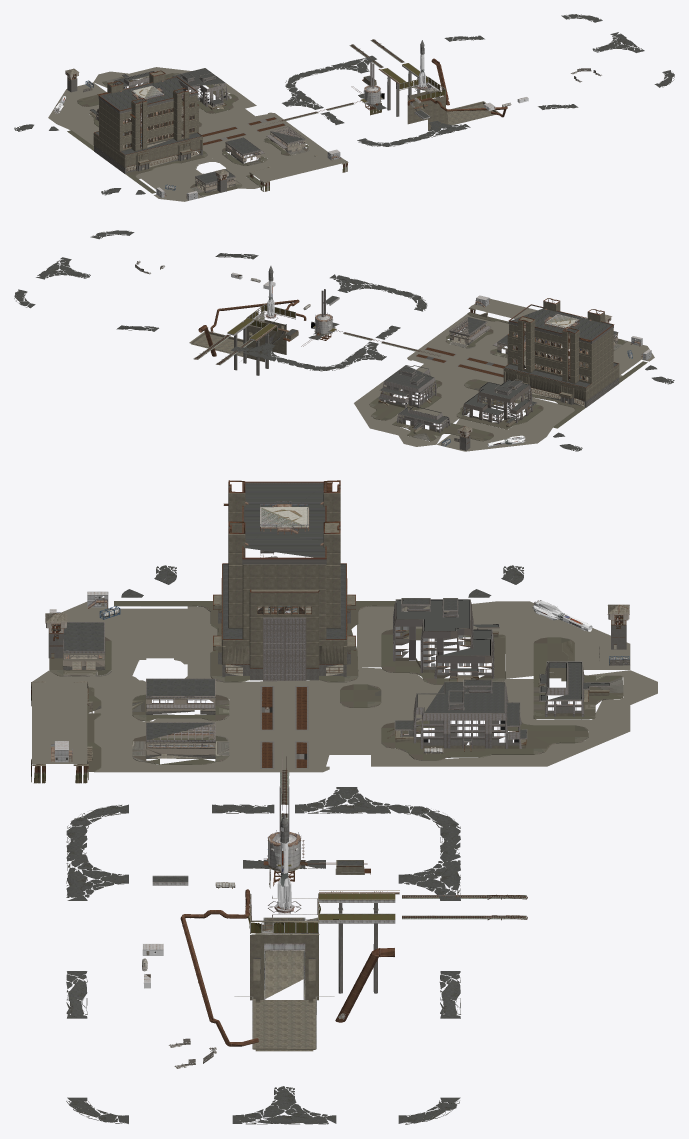
File: launch_site_1-map.glb
3 renders of one model, top to bottom at view 1: azimuth 30°, elevation 25°; view 2: azimuth 150°, elevation 25°; view 3: azimuth 270°, elevation 25°, orthographic. The views are drawn at different scales.
Visible parts, largest first — view 1: launch_site_ground_a_LOD0, range_core_exterior_LOD0, range_bridge_d_LOD0, warehouse_launch_site_a_LOD0, pavement_launchsite_a_LOD0, range_bridge_a_LOD0, pipeline_bespoke_launchsite_a_LOD0, walkway_a_300x900_collapsed_a, train_track_3x9, watch_tower_b_LOD0, portacabin_600_900_a_LOD0, range_outbuilding_a_LOD0 (+1 smaller); view 2: launch_site_ground_a_LOD0, range_core_exterior_LOD0, range_bridge_d_LOD0, warehouse_launch_site_a_LOD0, pavement_launchsite_a_LOD0, range_bridge_a_LOD0, walkway_a_300x900_collapsed_a, train_track_3x9, pipeline_bespoke_launchsite_a_LOD0, portacabin_600_900_a_LOD0, range_outbuilding_a_LOD0, rocket_boosters_stage_a_LOD0 (+2 smaller); view 3: launch_site_ground_a_LOD0, range_bridge_d_LOD0, range_core_exterior_LOD0, warehouse_launch_site_a_LOD0, pavement_launchsite_a_LOD0, range_bridge_a_LOD0, pipeline_bespoke_launchsite_a_LOD0, watch_tower_b_LOD0, train_track_3x9, range_outbuilding_a_LOD0, walkway_a_300x900_collapsed_a, portacabin_600_900_a_LOD0 (+2 smaller).
Boxes of the visible parts, bbox=[...] form: launch_site_ground_a_LOD0: bbox=[48, 67, 346, 201]; range_core_exterior_LOD0: bbox=[66, 61, 504, 186]; range_bridge_d_LOD0: bbox=[14, 14, 674, 195]; warehouse_launch_site_a_LOD0: bbox=[66, 62, 381, 192]; pavement_launchsite_a_LOD0: bbox=[67, 73, 309, 197]; range_bridge_a_LOD0: bbox=[71, 63, 499, 185]; pipeline_bespoke_launchsite_a_LOD0: bbox=[100, 58, 507, 117]; walkway_a_300x900_collapsed_a: bbox=[120, 80, 380, 198]; train_track_3x9: bbox=[263, 39, 404, 125]; watch_tower_b_LOD0: bbox=[65, 68, 228, 192]; portacabin_600_900_a_LOD0: bbox=[132, 86, 527, 200]; range_outbuilding_a_LOD0: bbox=[98, 79, 364, 145]; launch_site_ground_a_LOD0: bbox=[354, 298, 654, 451]; range_core_exterior_LOD0: bbox=[190, 298, 619, 443]; range_bridge_d_LOD0: bbox=[14, 230, 674, 451]; warehouse_launch_site_a_LOD0: bbox=[314, 289, 619, 437]; pavement_launchsite_a_LOD0: bbox=[369, 312, 647, 441]; range_bridge_a_LOD0: bbox=[189, 295, 588, 437]; walkway_a_300x900_collapsed_a: bbox=[315, 298, 642, 399]; train_track_3x9: bbox=[193, 329, 439, 365]; pipeline_bespoke_launchsite_a_LOD0: bbox=[198, 299, 588, 356]; portacabin_600_900_a_LOD0: bbox=[231, 272, 651, 360]; range_outbuilding_a_LOD0: bbox=[283, 324, 590, 377]; rocket_boosters_stage_a_LOD0: bbox=[267, 268, 569, 446]; launch_site_ground_a_LOD0: bbox=[32, 601, 657, 772]; range_bridge_d_LOD0: bbox=[63, 483, 608, 1124]; range_core_exterior_LOD0: bbox=[45, 480, 629, 1051]; warehouse_launch_site_a_LOD0: bbox=[52, 482, 623, 871]; pavement_launchsite_a_LOD0: bbox=[49, 601, 623, 772]; range_bridge_a_LOD0: bbox=[152, 486, 626, 1049]; pipeline_bespoke_launchsite_a_LOD0: bbox=[180, 484, 394, 1046]; watch_tower_b_LOD0: bbox=[45, 604, 629, 658]; train_track_3x9: bbox=[280, 750, 527, 920]; range_outbuilding_a_LOD0: bbox=[224, 482, 370, 872]; walkway_a_300x900_collapsed_a: bbox=[51, 491, 337, 873]; portacabin_600_900_a_LOD0: bbox=[49, 507, 308, 982].
Size of the model in its own units: 561 by 101 by 272.
64 materials, 63 textured.
